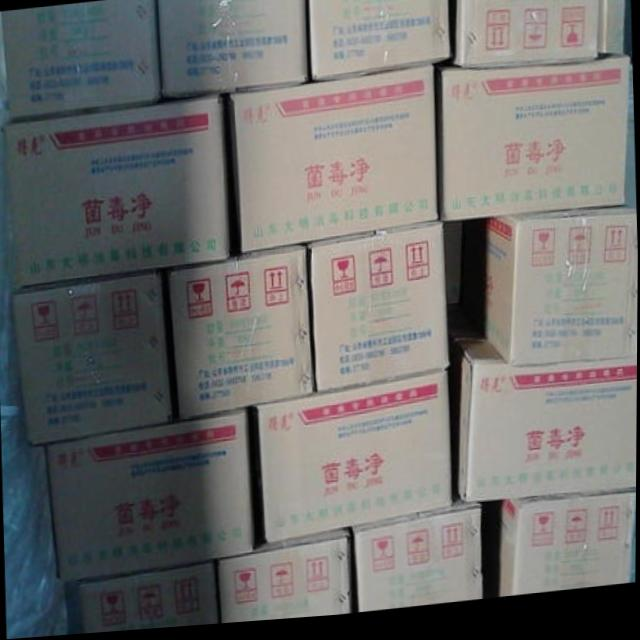box: (4, 102, 232, 289), (223, 70, 439, 259), (447, 307, 638, 503), (45, 413, 257, 586), (259, 377, 455, 549), (436, 65, 631, 226), (13, 272, 174, 444), (166, 248, 315, 424), (484, 215, 638, 376), (307, 228, 448, 396), (2, 0, 161, 118), (155, 0, 309, 104), (354, 492, 482, 616), (494, 501, 637, 602), (216, 530, 356, 626), (306, 0, 450, 90), (452, 0, 601, 72), (77, 563, 221, 635), (442, 227, 462, 311), (601, 0, 624, 68)
